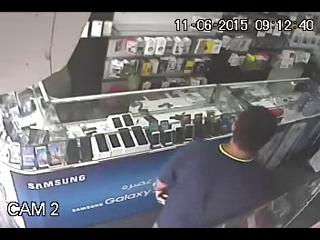Normal: (155, 107, 284, 228)
